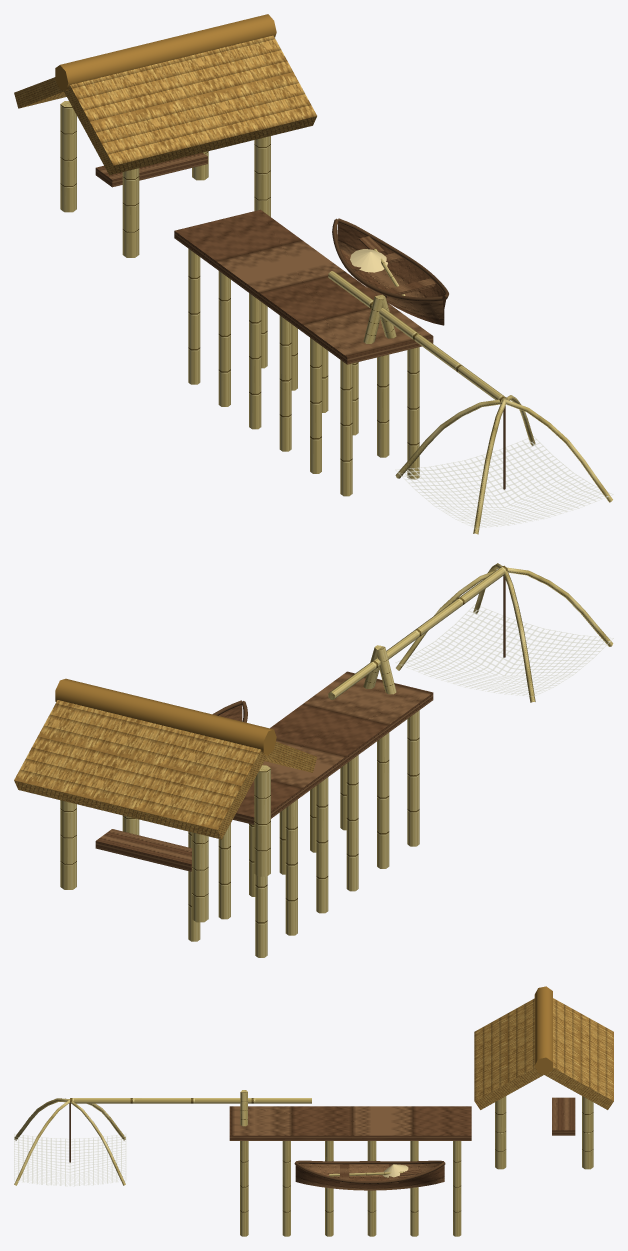
The model's file is ben_ca.glb.
3 renders of one model, top to bottom at view 1: azimuth 30°, elevation 25°; view 2: azimuth 150°, elevation 25°; view 3: azimuth 270°, elevation 25°, orthographic. The views are drawn at different scales.
Parts seen in each view (by area): view 1: ben_ca, VoLever; view 2: ben_ca, VoLever; view 3: ben_ca, VoLever.
Boxes of the visible parts, <box> form: ben_ca: <box>14,14,448,496</box>; VoLever: <box>328,271,613,534</box>; ben_ca: <box>14,645,433,957</box>; VoLever: <box>328,563,613,702</box>; ben_ca: <box>229,986,613,1236</box>; VoLever: <box>14,1098,311,1186</box>.
Size of the model in its own units: 0.985 by 1.15 by 3.1.
Materials: 7 (4 with a texture image).
